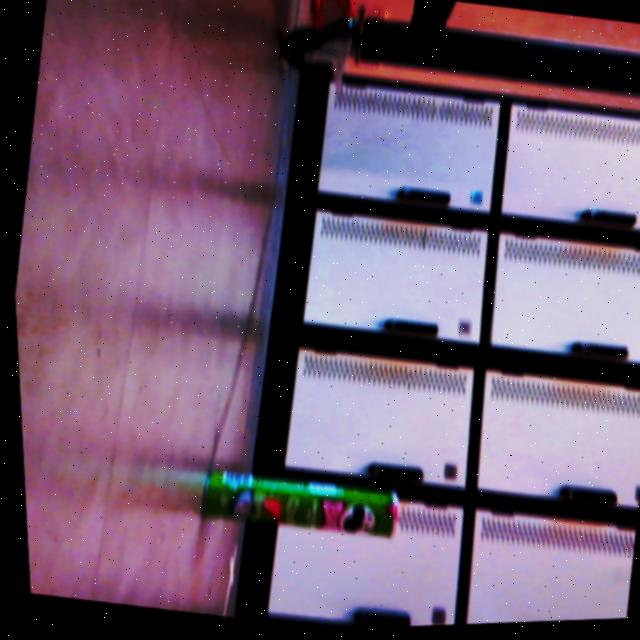greenpringles: (178, 442, 408, 559)
